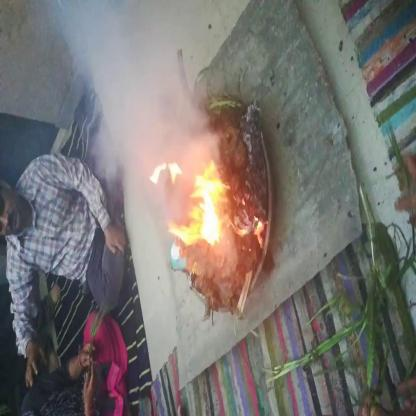fire: (149, 157, 265, 262)
